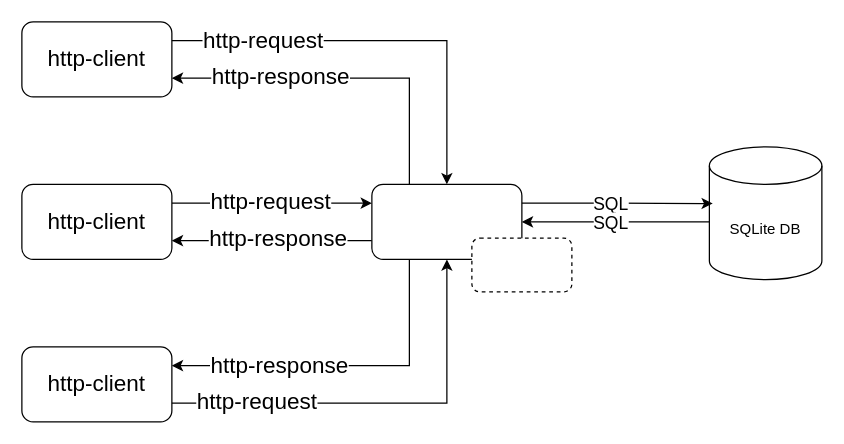
This 844x444 diagram has some shape labels left out. Each missing label, with the box of its shape:
chess engine: (471, 237, 572, 292)
http-server: (371, 183, 522, 259)
